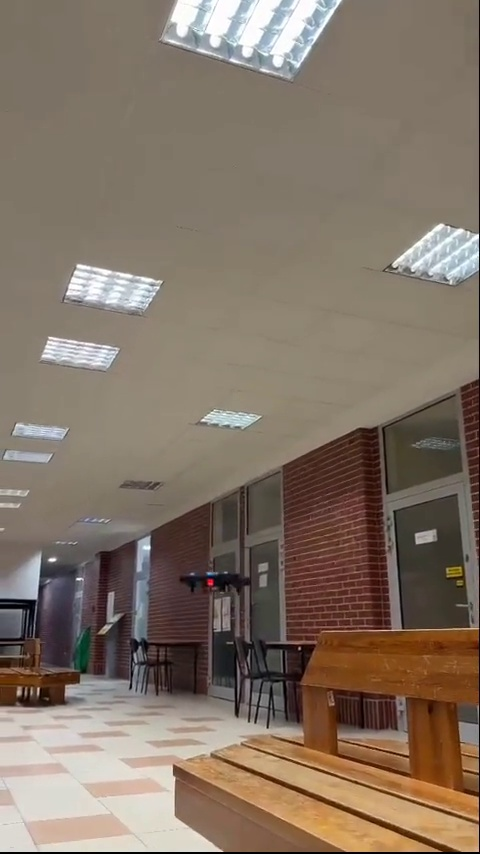drone: (176, 569, 255, 599)
